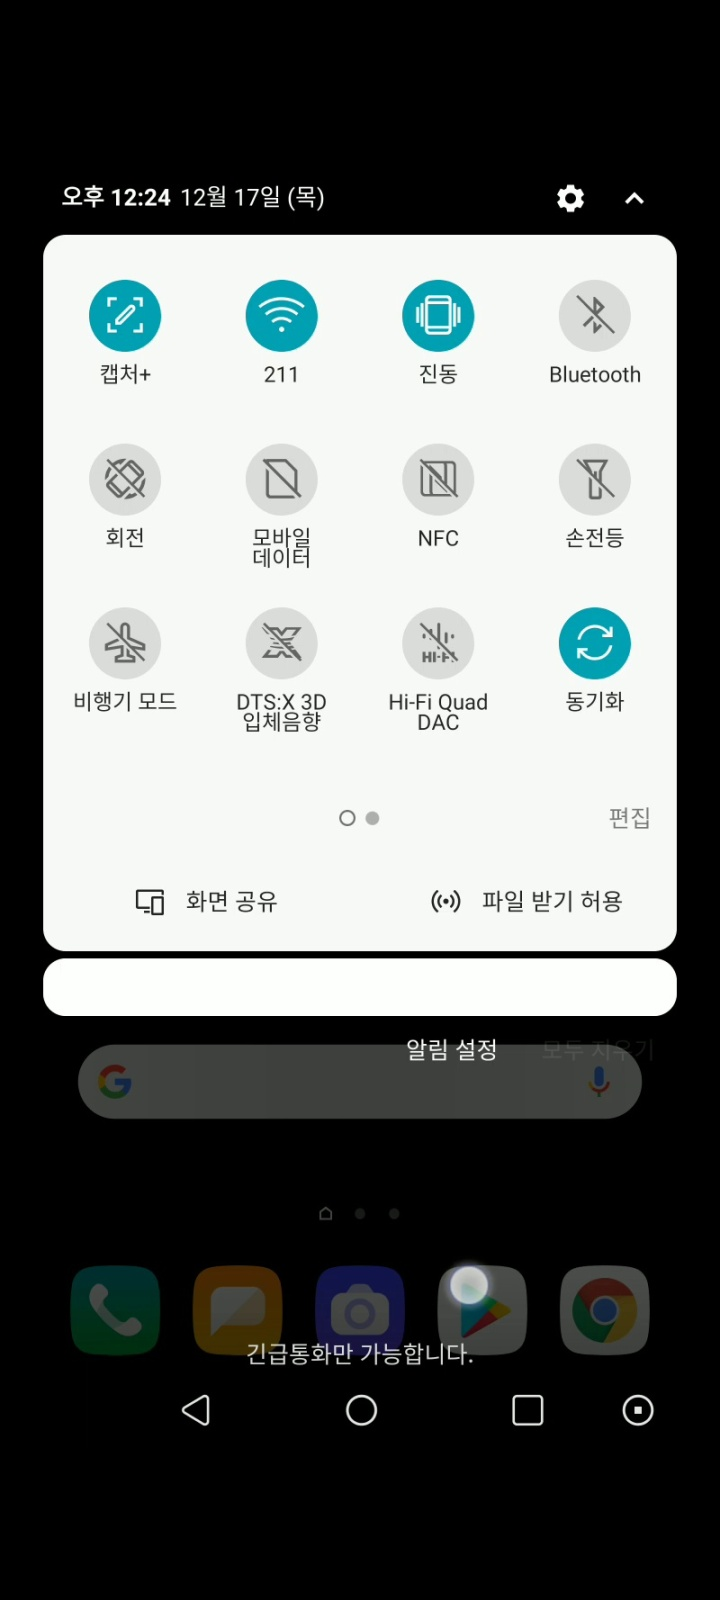Cursor: (446, 1263, 491, 1308)
